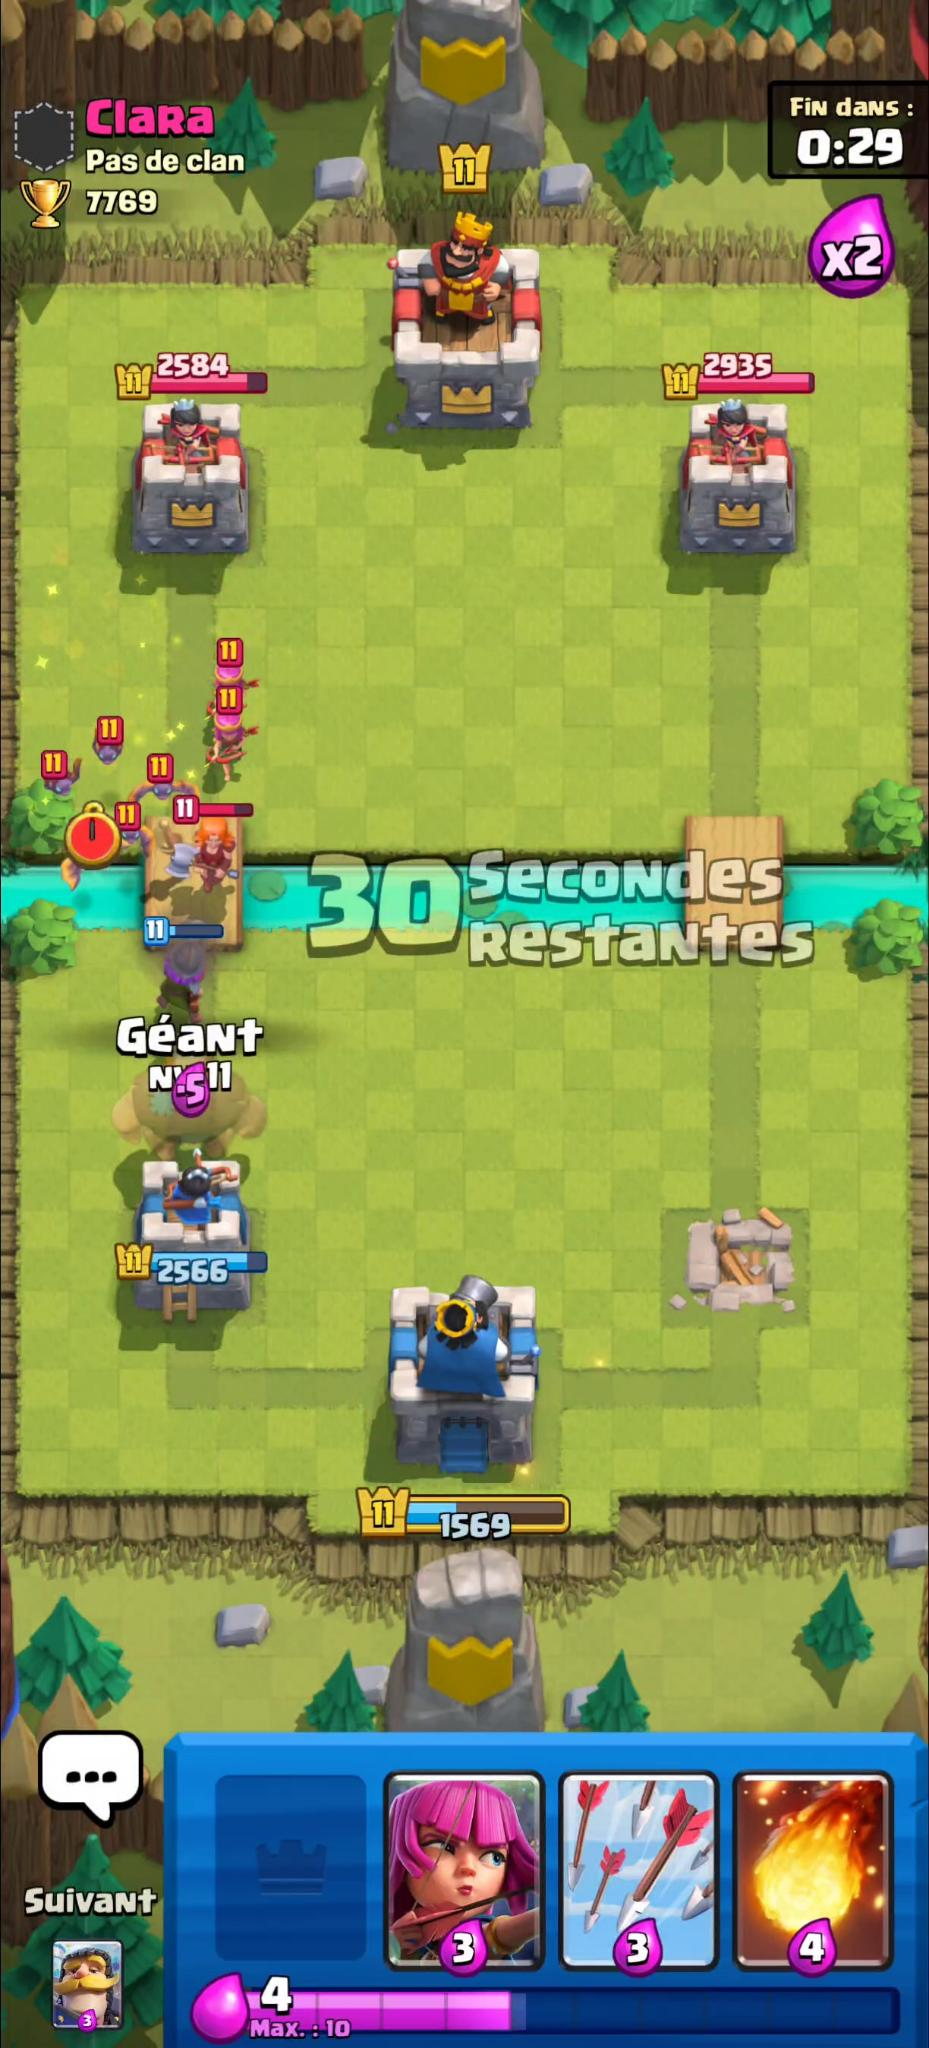archere: (204, 708, 260, 781), (213, 658, 269, 699)
bat: (124, 777, 204, 805), (43, 756, 85, 798), (93, 722, 127, 769), (119, 825, 159, 857)
geant: (111, 1053, 267, 1164)
mousquetaire: (158, 940, 210, 1021)
valkyrie: (171, 814, 239, 893)
